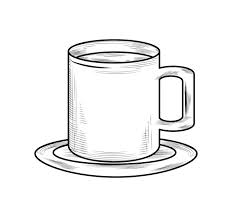mug: (57, 36, 205, 172)
